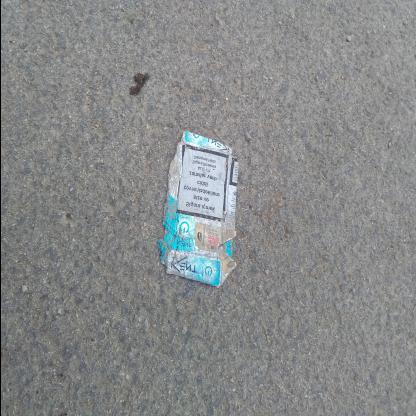karton: (156, 131, 236, 288)
